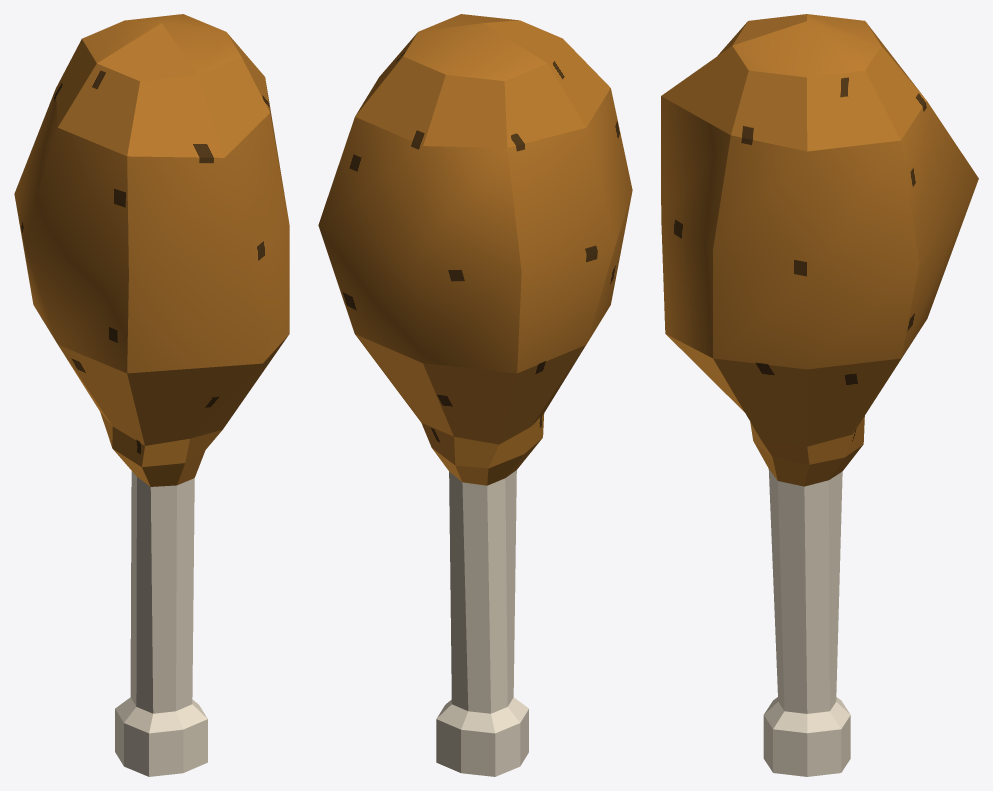
Rendered from Chicken Leg Visuals & Animation.fbx.
3 views of the same model, side by side, from view 1: azimuth 30°, elevation 25°; view 2: azimuth 150°, elevation 25°; view 3: azimuth 270°, elevation 25° (orthographic).
Visible parts, largest first — view 1: pCube1; view 2: pCube1; view 3: pCube1.
Boxes of the visible parts, x1=… form: pCube1: x1=14, y1=14, x2=289, y2=776; pCube1: x1=318, y1=14, x2=632, y2=776; pCube1: x1=661, y1=14, x2=978, y2=776.
Bounding box in the file's own units: 1.24 × 3.45 × 1.32.
